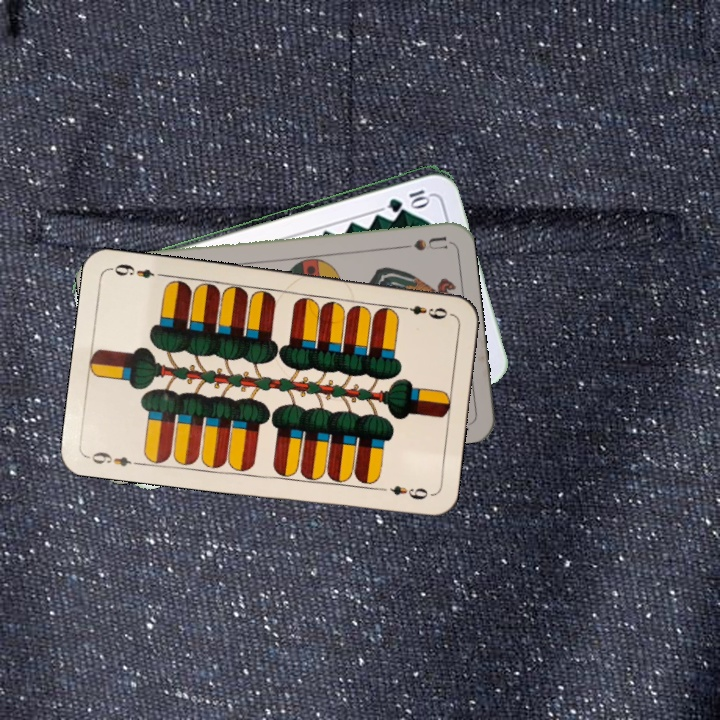E9: (84, 448, 143, 469), (395, 301, 450, 322)
G10: (383, 185, 433, 212)
SU: (389, 232, 449, 253)
